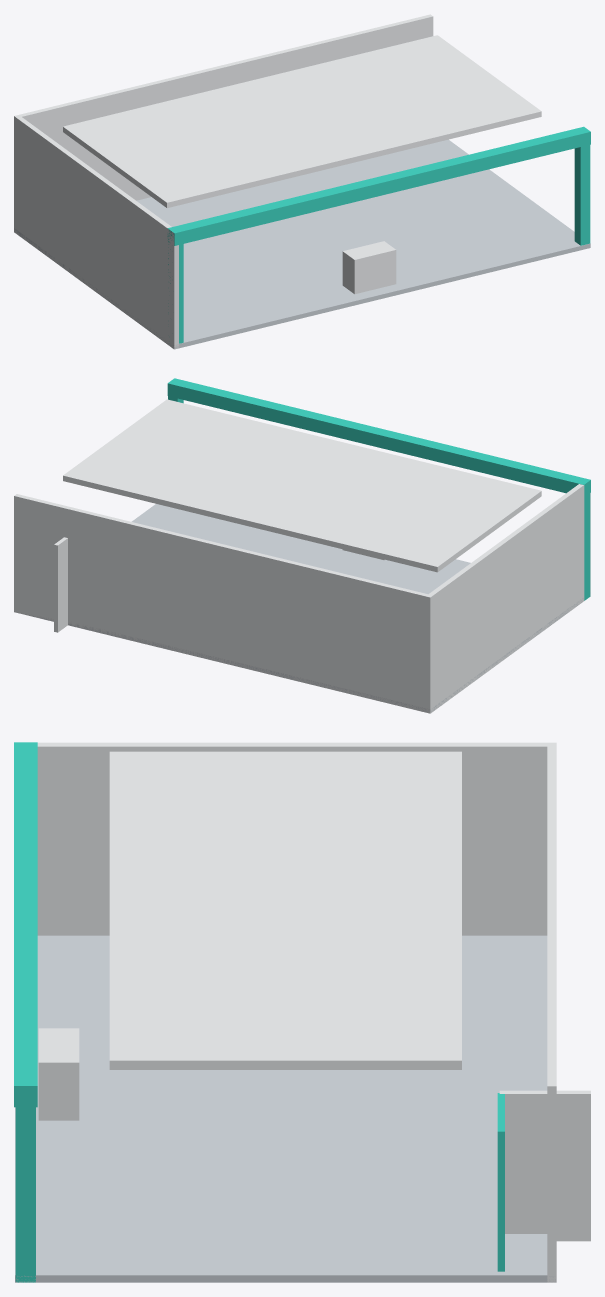
The picture shows the model from 3 angles, top to bottom: view 1: azimuth 30°, elevation 25°; view 2: azimuth 150°, elevation 25°; view 3: azimuth 270°, elevation 25°; orthographic projection. The views are drawn at different scales.
Parts seen in each view (by area): view 1: Exhibition Booth Concept; view 2: Exhibition Booth Concept; view 3: Exhibition Booth Concept.
Boxes of the visible parts, x1,y1,x2,y2 form: Exhibition Booth Concept: [14, 14, 590, 349]; Exhibition Booth Concept: [14, 378, 590, 713]; Exhibition Booth Concept: [14, 742, 590, 1282].
Bounding box in the file's own units: 12 × 3.34 × 8.52.
